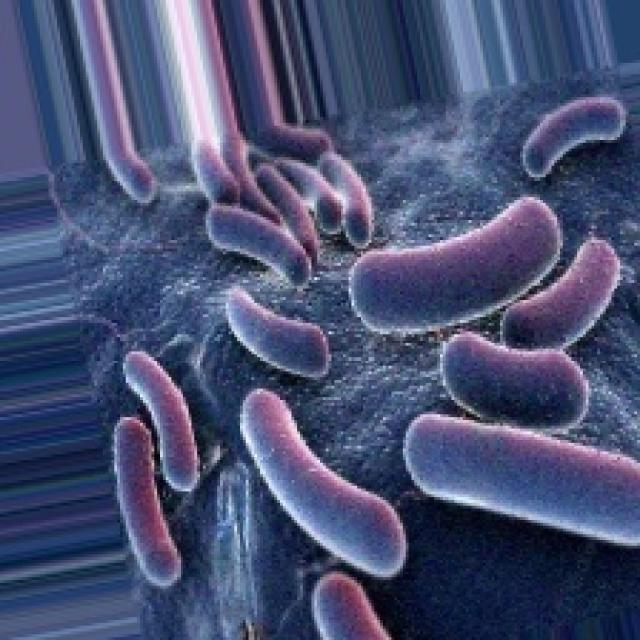Rod_bacteria: (43, 72, 637, 637)
